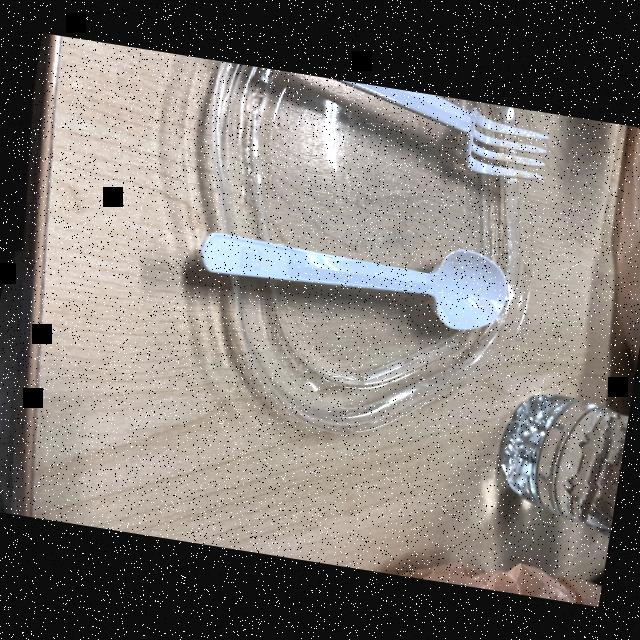plastic_spoon: (190, 202, 526, 342), (286, 74, 562, 196)
